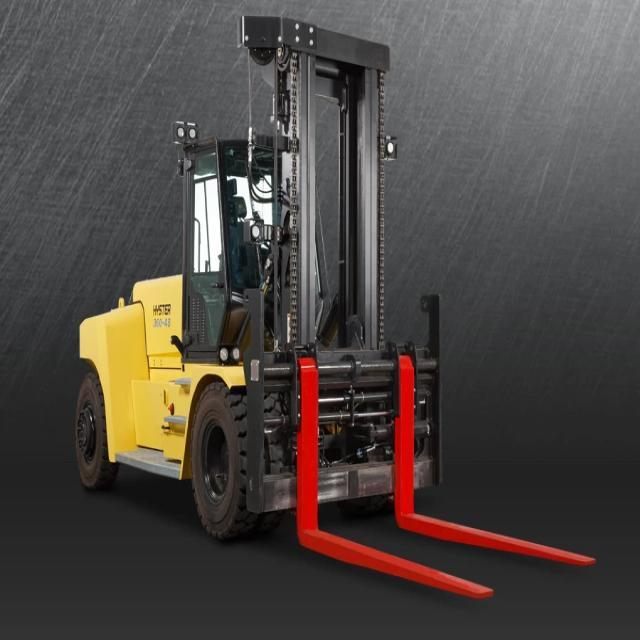forklift: (52, 6, 458, 568)
